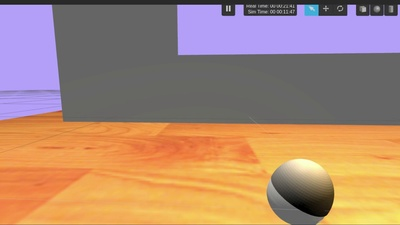mira_robot: (266, 159, 335, 224)
